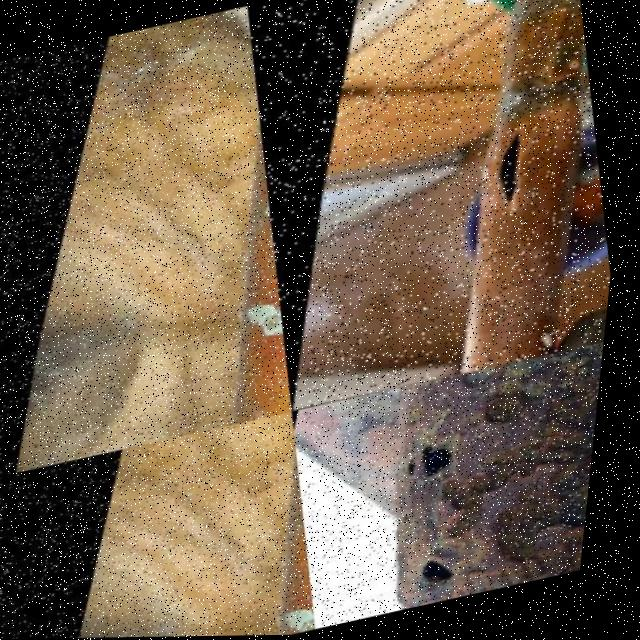hole: (411, 552, 478, 601), (405, 439, 466, 485), (392, 456, 423, 485)
rupture: (465, 125, 551, 224)
